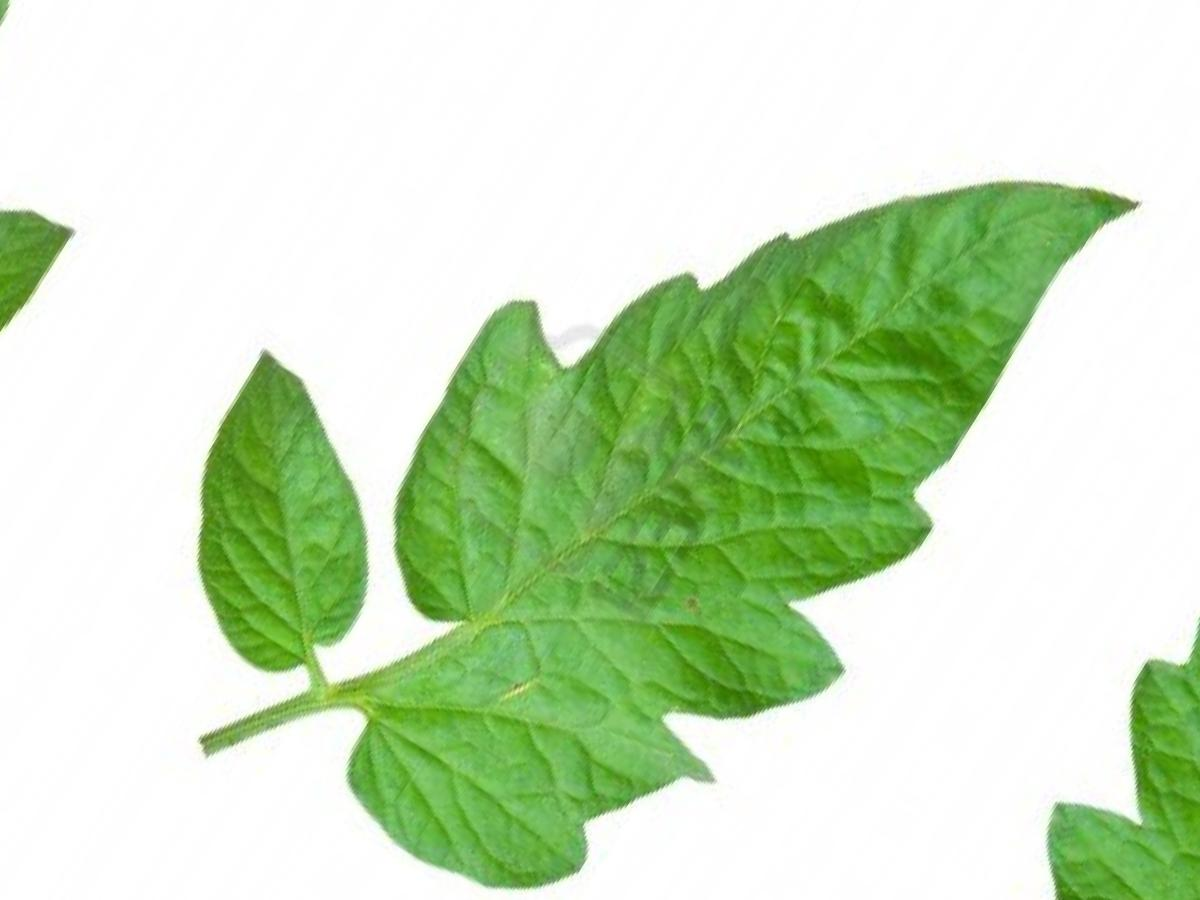Tomato leaf: (193, 0, 1199, 900), (88, 297, 475, 703)
